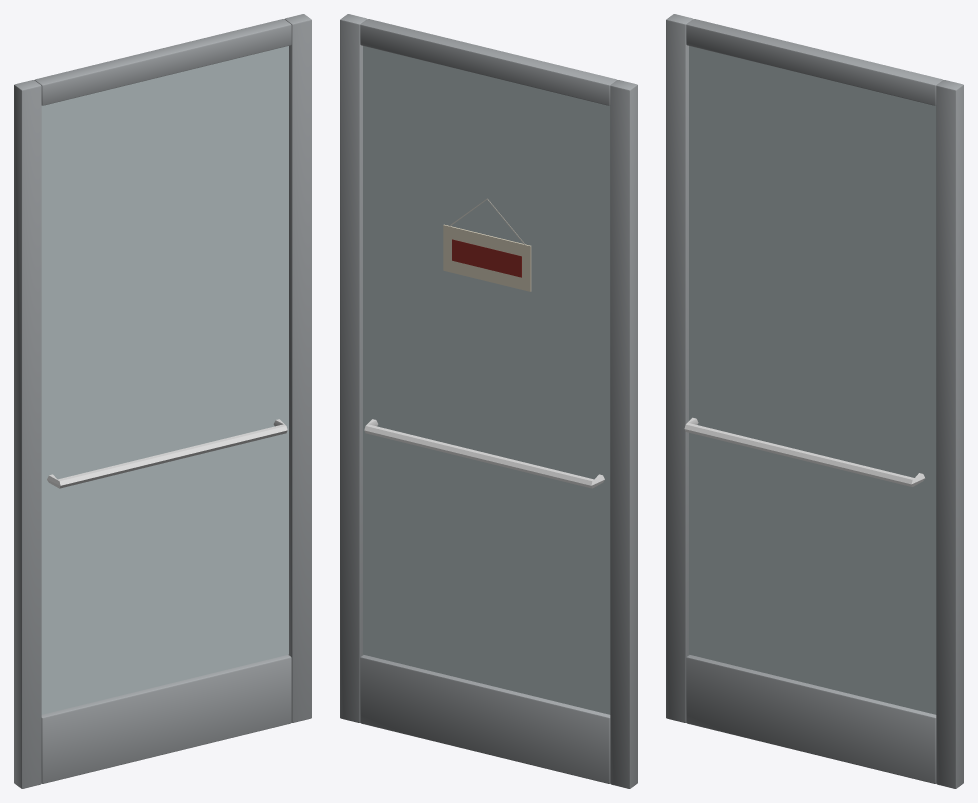
The model's file is mae_shop_door.glb.
3 views of the same model, side by side, from view 1: azimuth 30°, elevation 25°; view 2: azimuth 150°, elevation 25°; view 3: azimuth 330°, elevation 25° (orthographic).
Visible parts, largest first — view 1: mae_shop_door; view 2: mae_shop_door; view 3: mae_shop_door.
Boxes of the visible parts, x1=… form: mae_shop_door: x1=14, y1=14, x2=311, y2=788; mae_shop_door: x1=340, y1=14, x2=637, y2=788; mae_shop_door: x1=666, y1=14, x2=963, y2=788.
Size of the model in its own units: 1 by 2.3 by 0.168.
